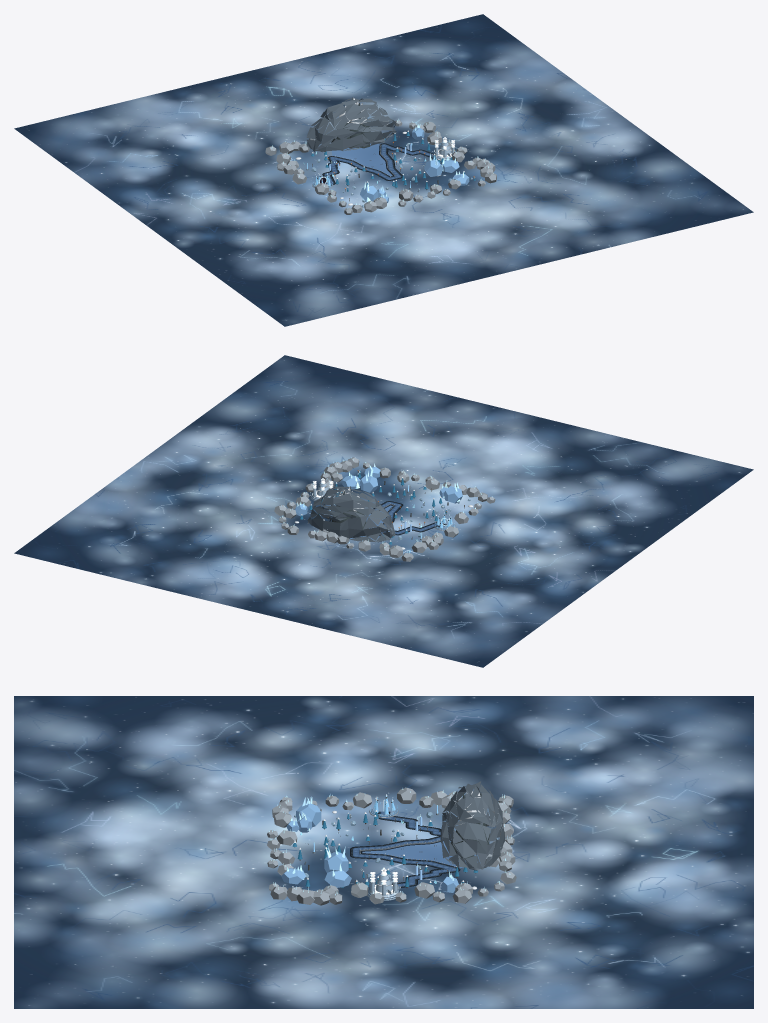
File: world_ice.glb
3 views of the same model, one above another, from view 1: azimuth 30°, elevation 25°; view 2: azimuth 150°, elevation 25°; view 3: azimuth 270°, elevation 25° (orthographic). The views are drawn at different scales.
Parts seen in each view (by area): view 1: ice; view 2: ice; view 3: ice.
Boxes of the visible parts, x1,y1,x2,y2 form: ice: [14, 14, 753, 326]; ice: [14, 355, 753, 667]; ice: [14, 696, 753, 1008].
Bounding box in the file's own units: 400 × 40.2 × 400.
Materials: 72 (23 with a texture image).
